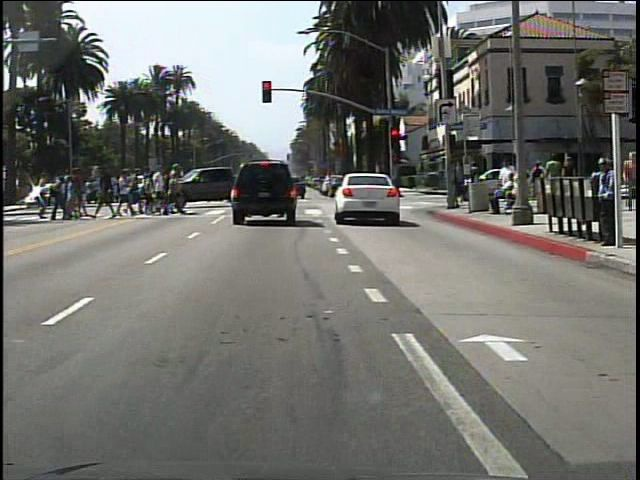person: (586, 156, 615, 250)
